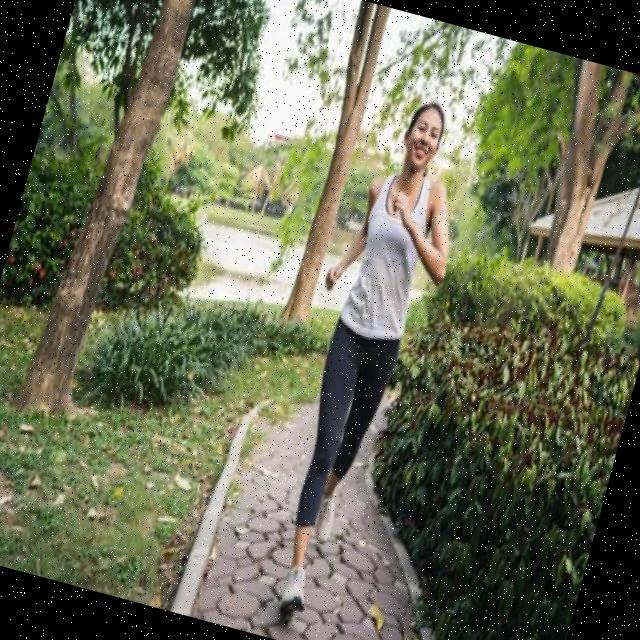Person: (240, 88, 487, 626)
